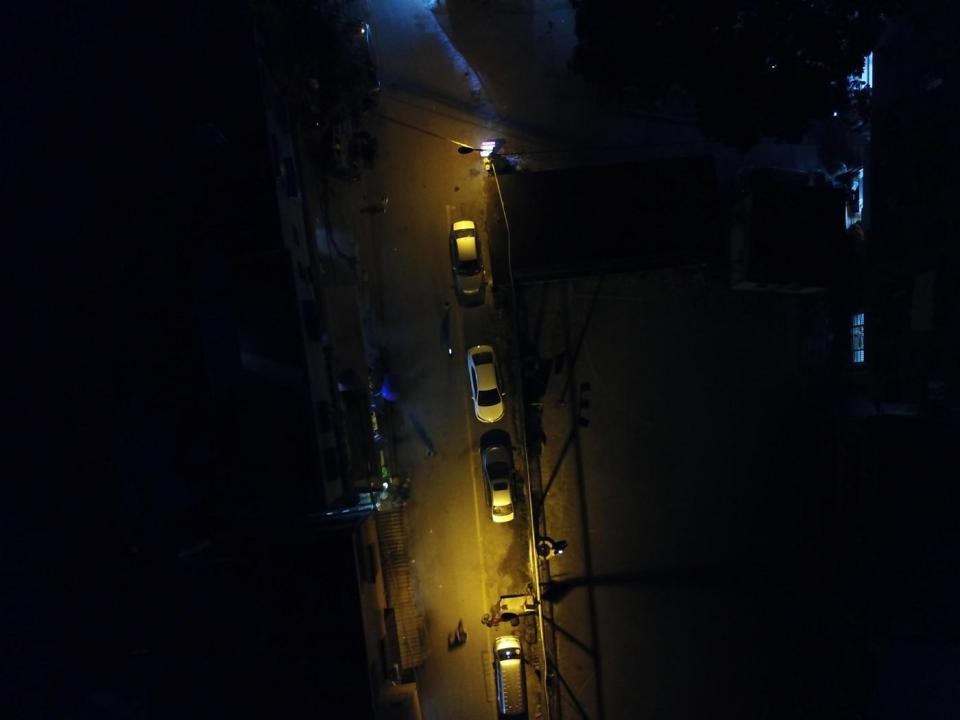car: (336, 21, 381, 108), (467, 344, 506, 423), (449, 220, 486, 297), (481, 444, 515, 524)
van: (492, 635, 530, 719)
